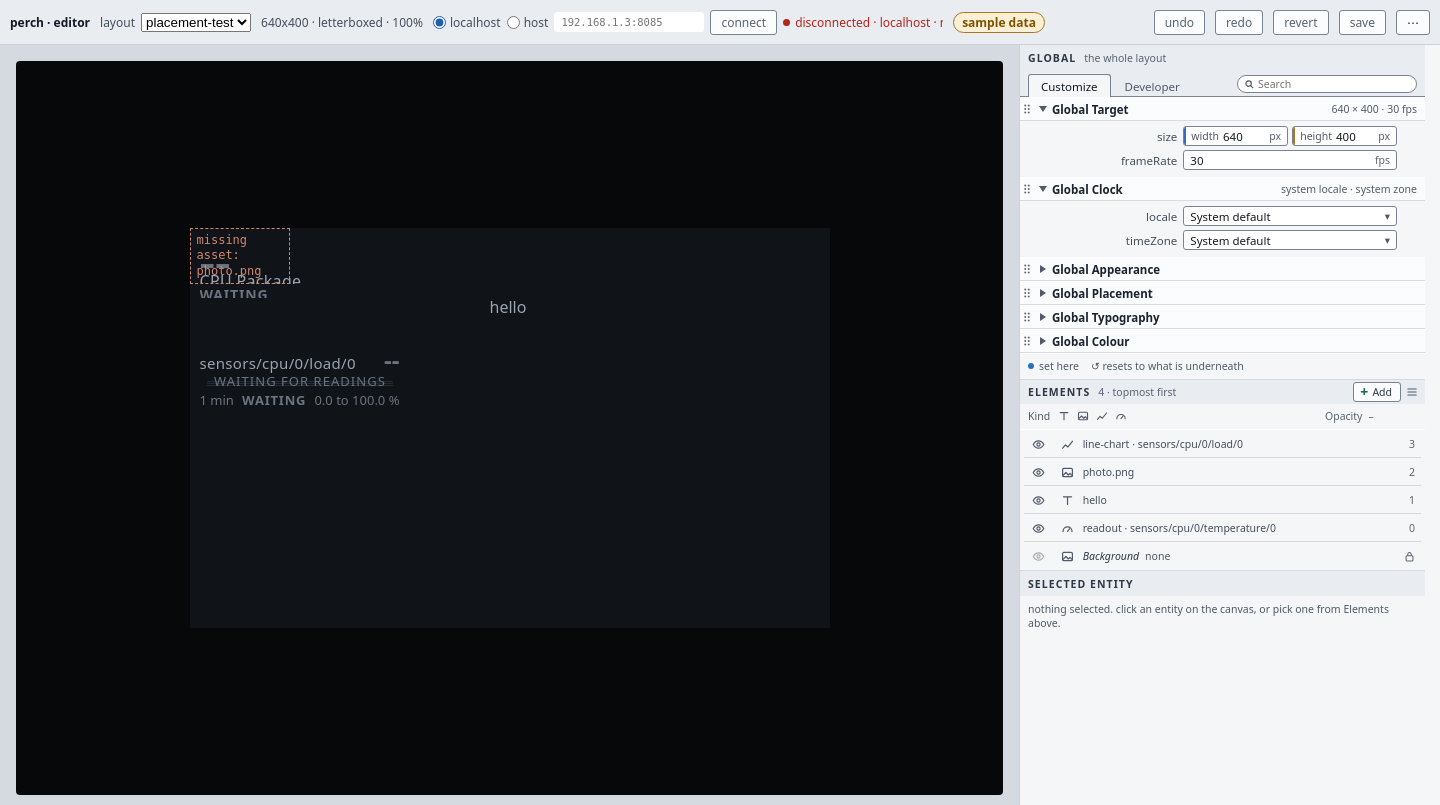
Test: the resize anchor › is a three-by-three grid at the left of x/y and w/h, top left by default
The image size is (1440, 805).
Click the button "hello 1" at (1067, 500), box [1052,486,1421,514]
(page scrolled)
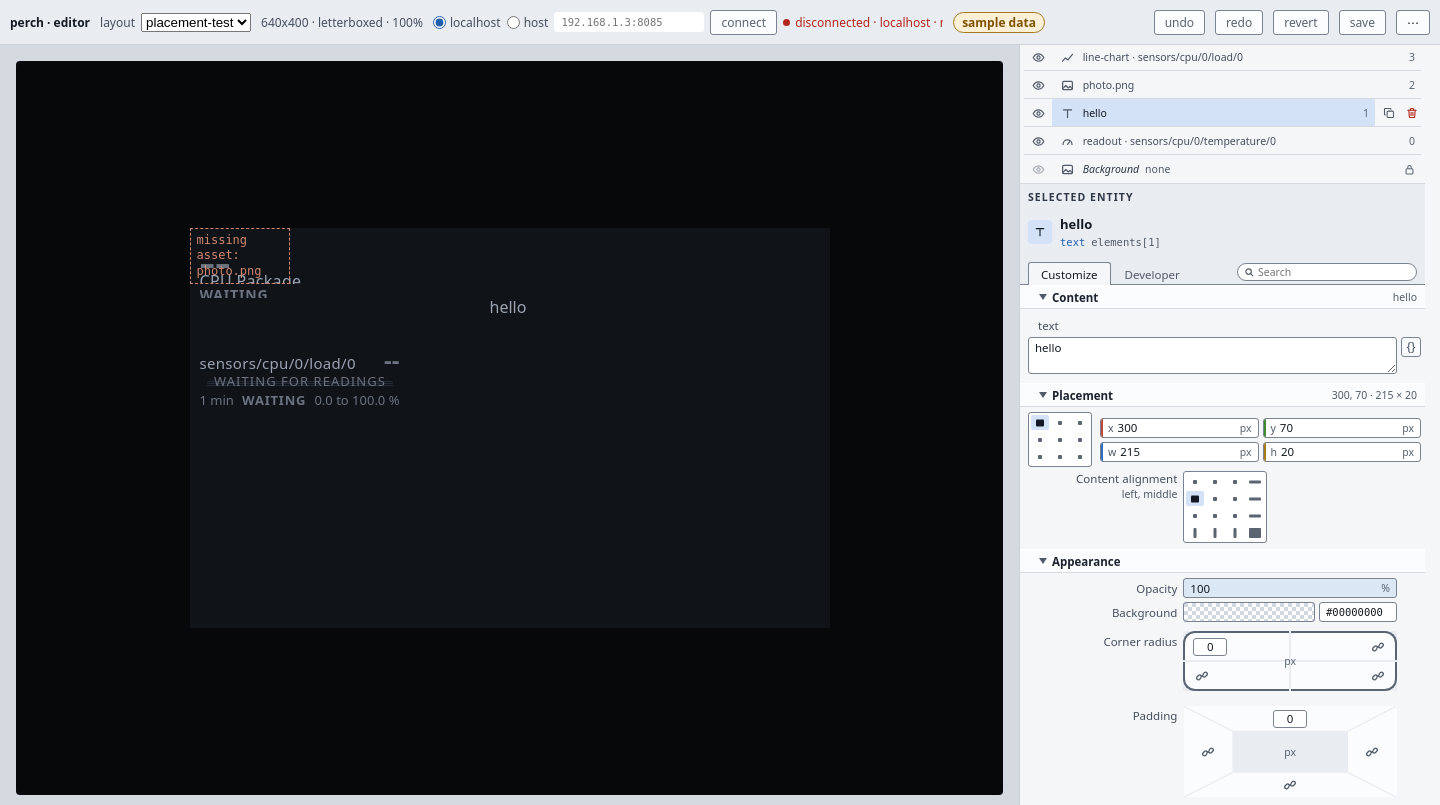
Now the number field labelled "x" holds "300", box [1116,419,1240,437]
Now the number field labelled "y" holds "70", box [1278,419,1402,437]
